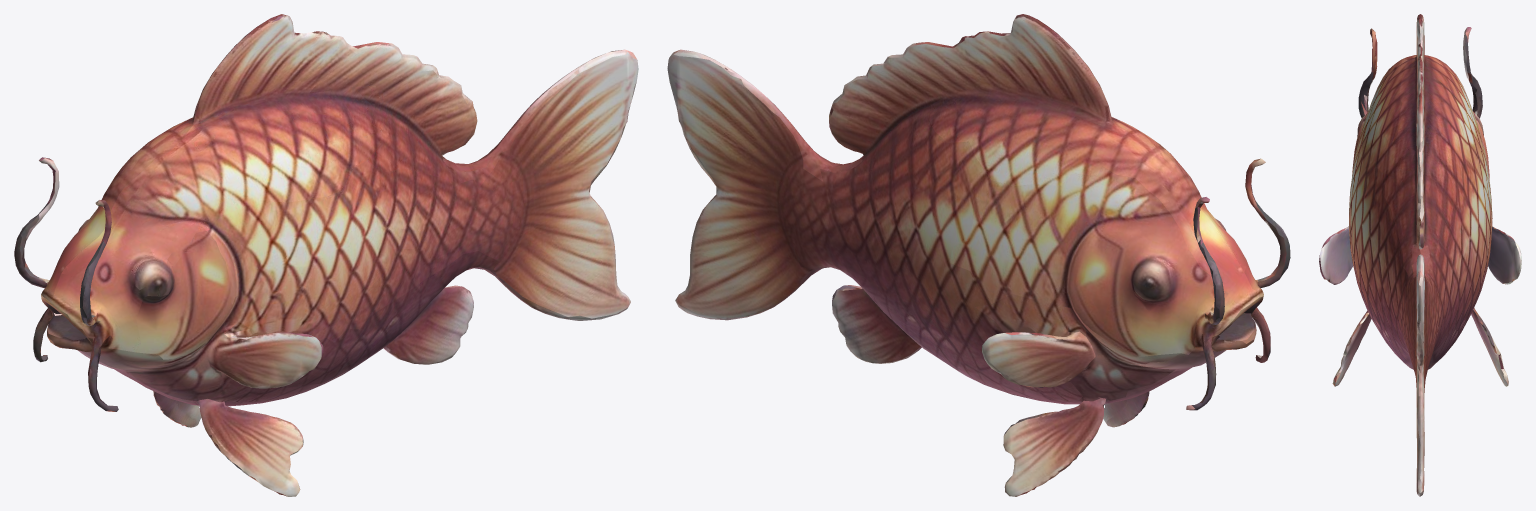
File: fish_dawnscale.glb
3 renders of one model, left to right at view 1: azimuth 30°, elevation 25°; view 2: azimuth 150°, elevation 25°; view 3: azimuth 270°, elevation 25°, orthographic. The views are drawn at different scales.
Parts seen in each view (by area): view 1: fish_dawnscale; view 2: fish_dawnscale; view 3: fish_dawnscale.
Boxes of the visible parts, x1,y1,x2,y2 form: fish_dawnscale: [14, 14, 638, 496]; fish_dawnscale: [667, 14, 1290, 496]; fish_dawnscale: [1319, 14, 1521, 496].
Bounding box in the file's own units: 1 × 0.709 × 0.3399.
1 material, 1 textured.
